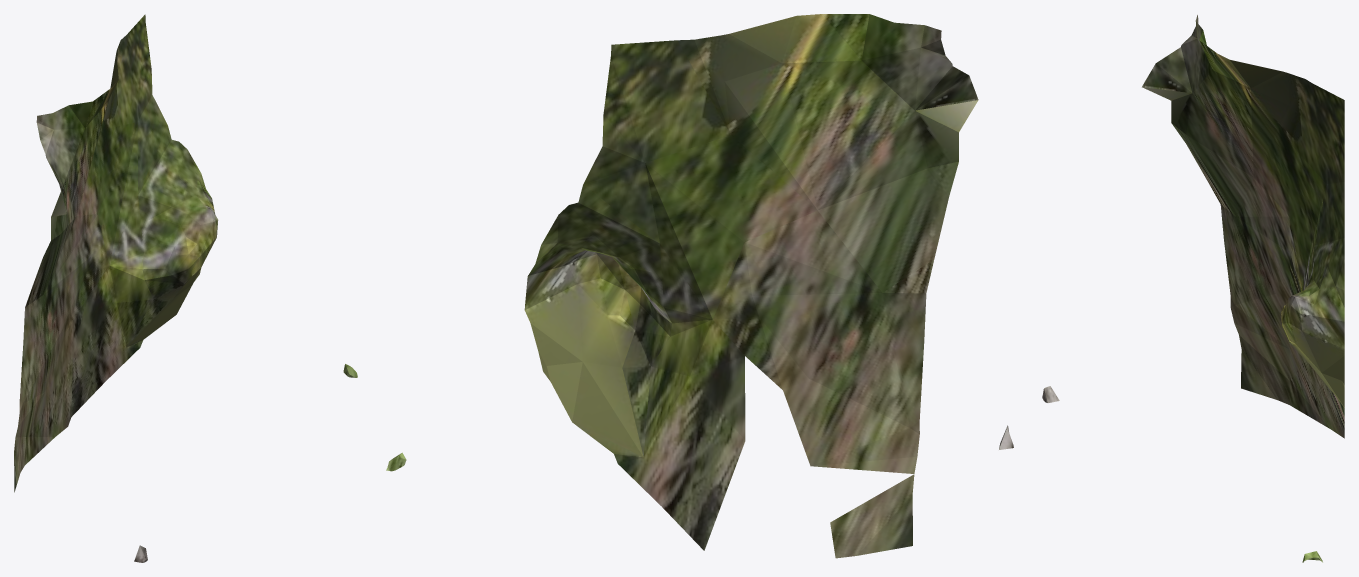
The picture shows the model from 3 angles, left to right: view 1: azimuth 30°, elevation 25°; view 2: azimuth 150°, elevation 25°; view 3: azimuth 270°, elevation 25°; orthographic projection. The views are drawn at different scales.
Size of the model in its own units: 2.95 by 2.95 by 2.16.
2 materials, 2 textured.
